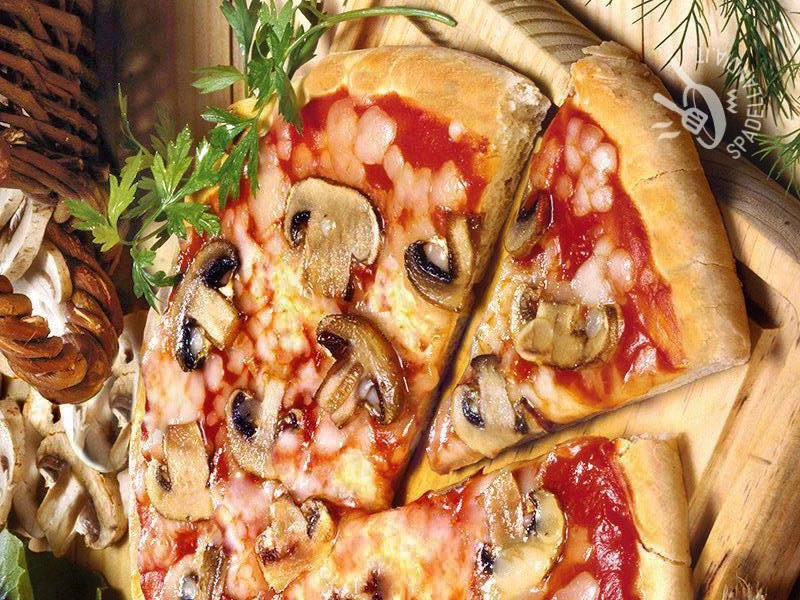champignon: (463, 468, 589, 600), (278, 172, 388, 303), (307, 308, 415, 438), (501, 277, 635, 377), (167, 239, 250, 378), (443, 349, 542, 461), (247, 497, 346, 600), (138, 419, 224, 532)
